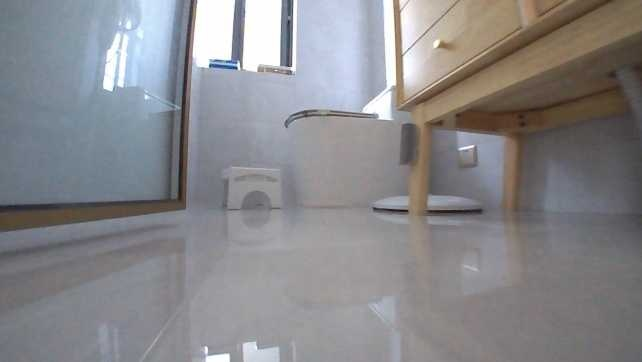chair_base: (370, 175, 480, 214)
toilet: (283, 81, 412, 206)
